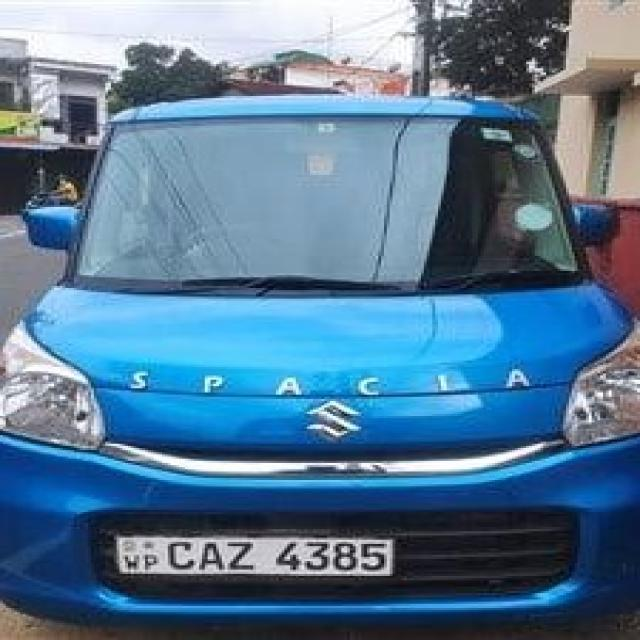license-plate: (113, 533, 390, 574)
